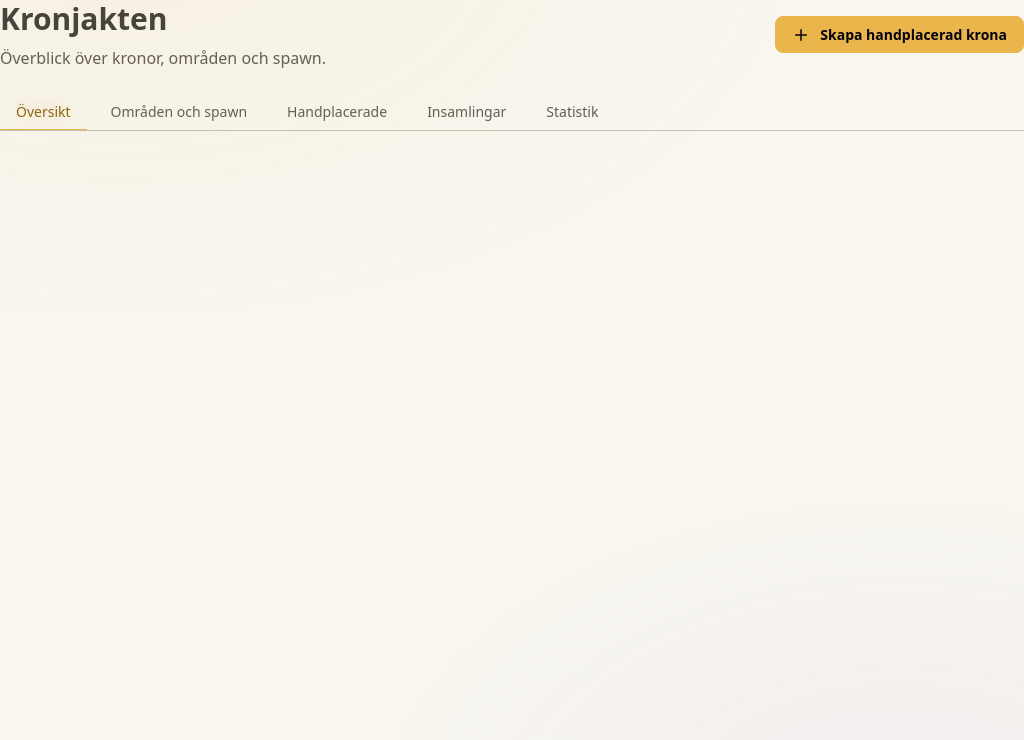
Scenario: Kronjakt point form — collectable redesign › renders NO title/description fields and a four-tier rarity selector
This screenshot has width=1024, height=740.
Click the tab "Handplacerade". click: (337, 112)
box: [271,94,403,130]
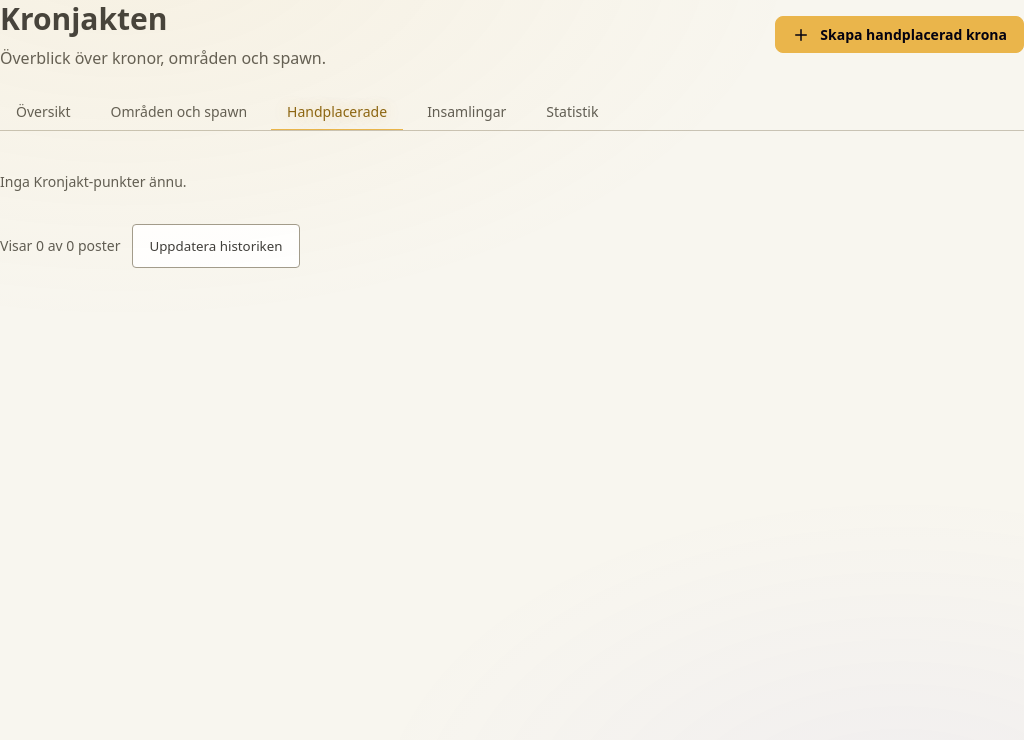
Click the button "Skapa handplacerad krona". click: (900, 35)
box: [775,16,1023,53]
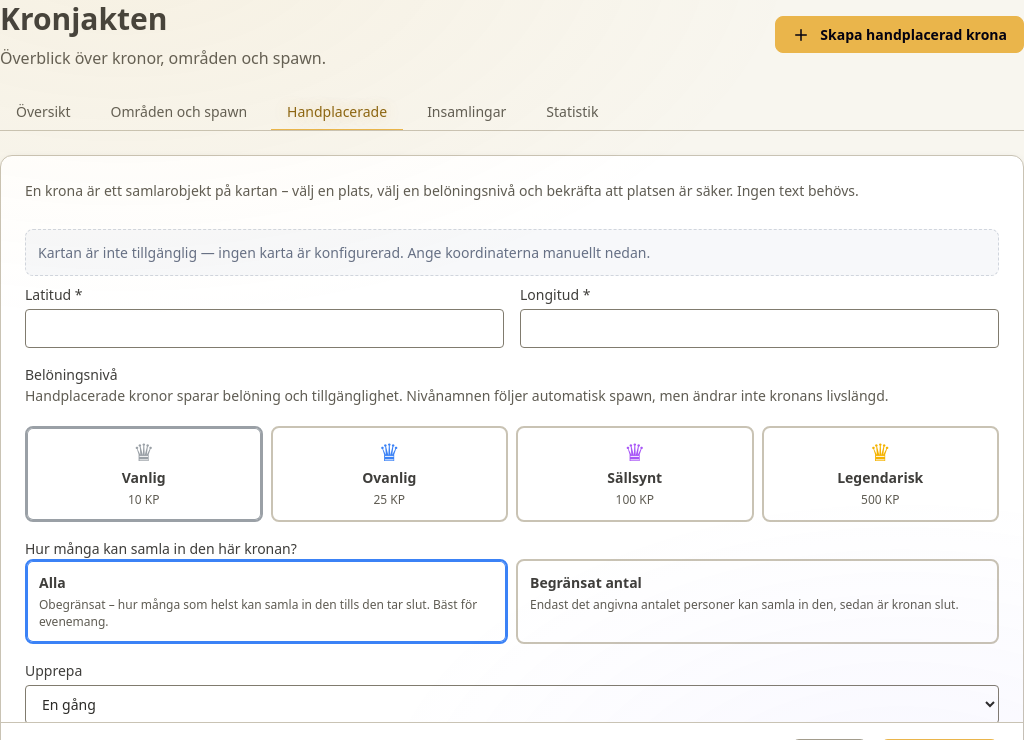
Check: the button "♛ Vanlig 10 KP" is shown, box [25,426,262,522]
